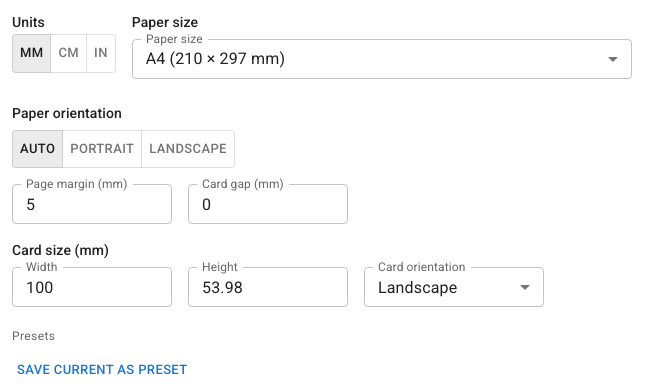
Test case: PrintSettings — units › displays card width converted to cm when the cm unit is selected
What coordinates should you click on to do the following:
click the button "cm"
I would click on:
 (69, 53)
Its box is [50,34,87,73].
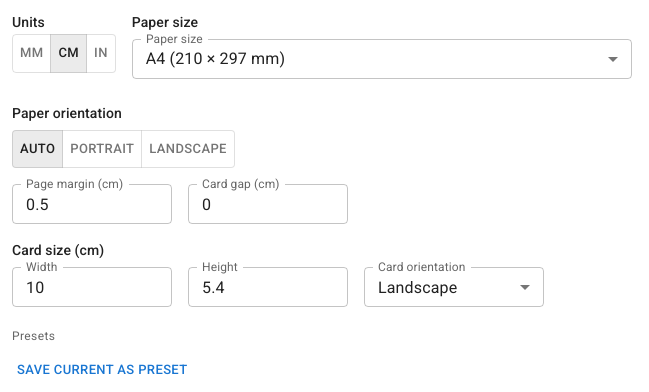
Now the number field labelled "Width" holds "10", box [12,267,172,307]
